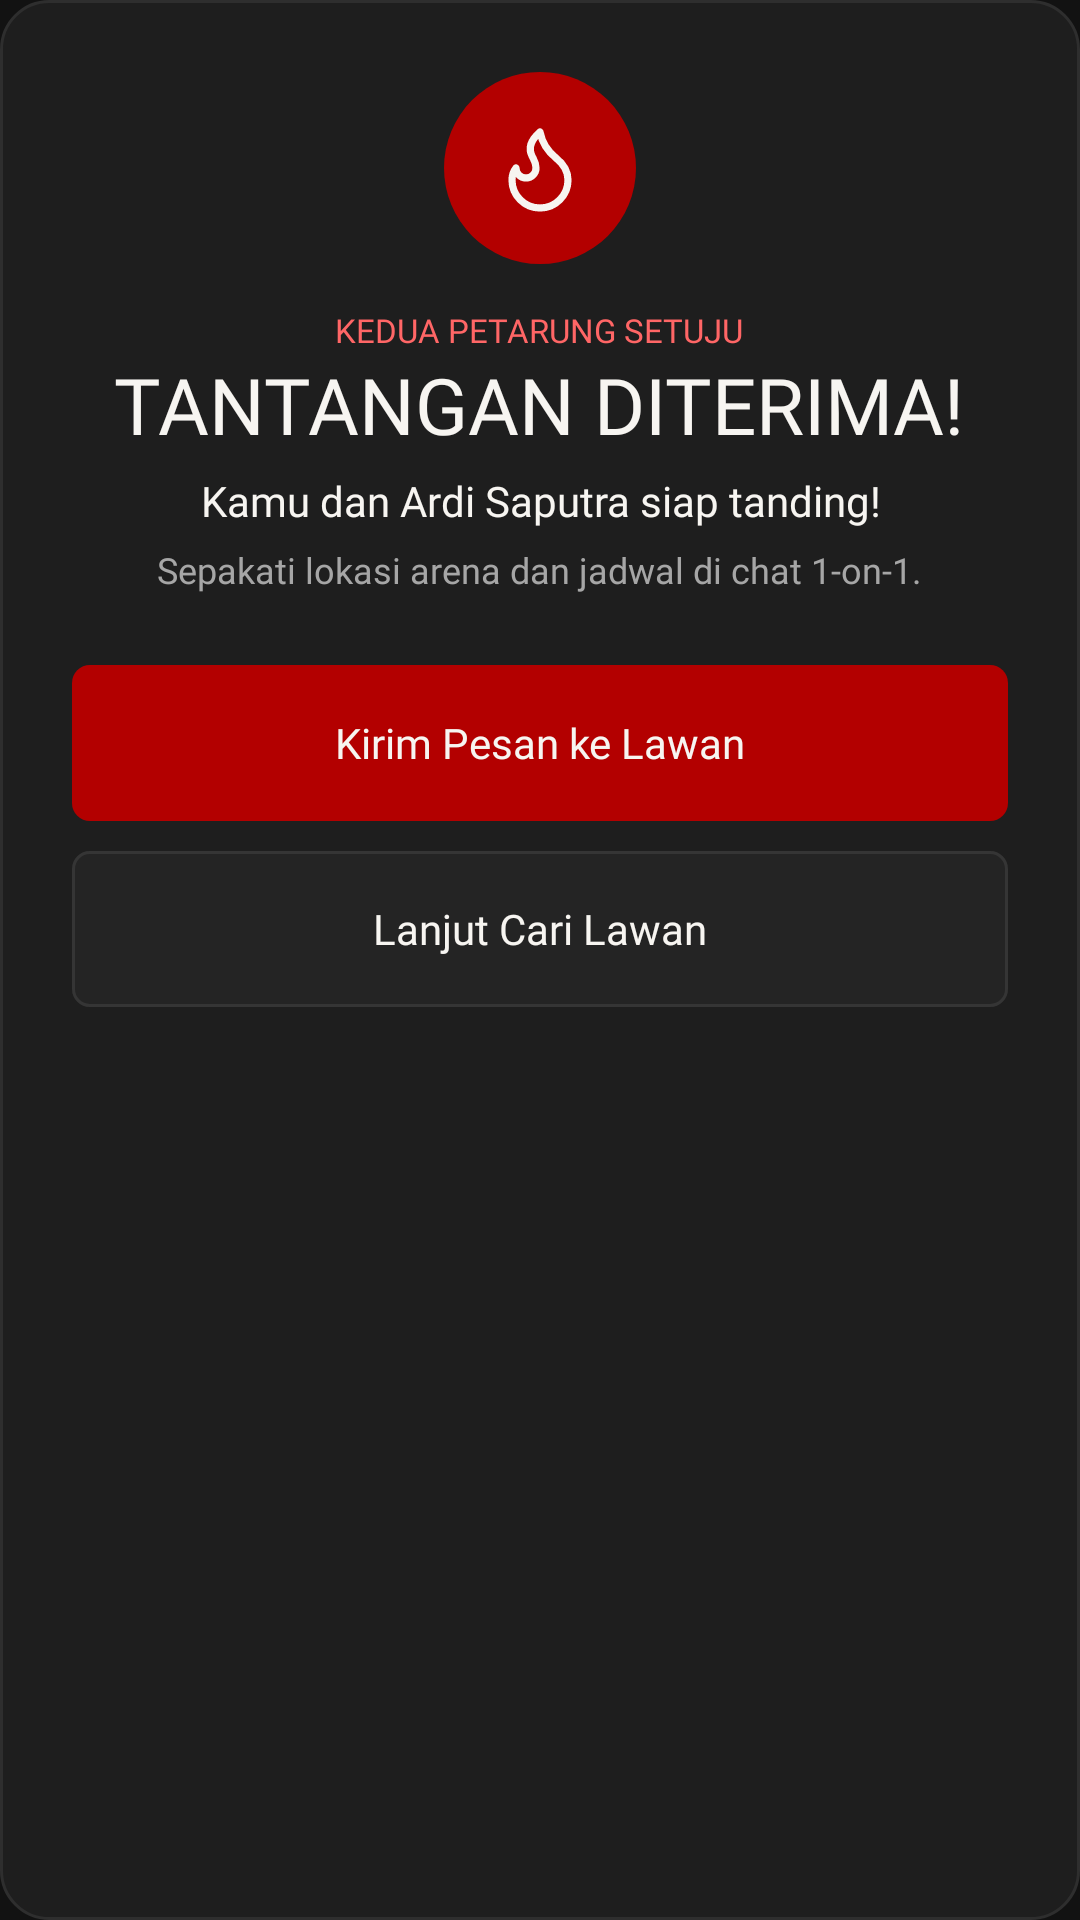

Icons on this 1080 × 1920 Android screen, each with its box as (x1, y1, x2, y2):
flame: (508, 128, 572, 212)
